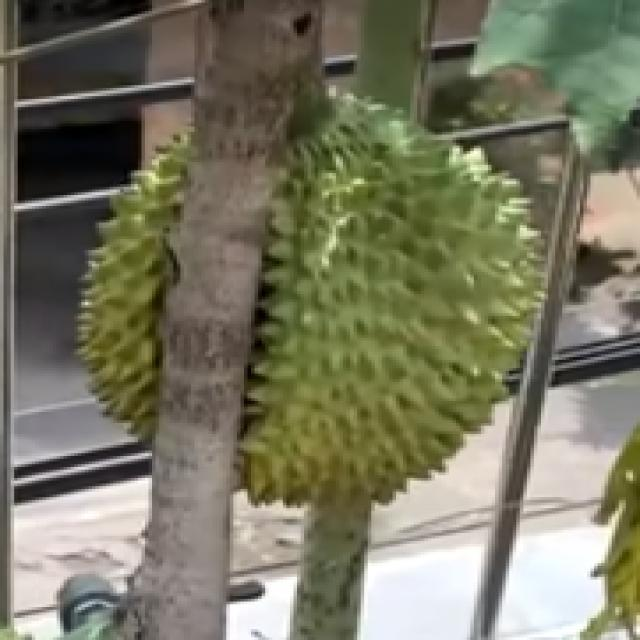immature: (73, 75, 547, 523)
